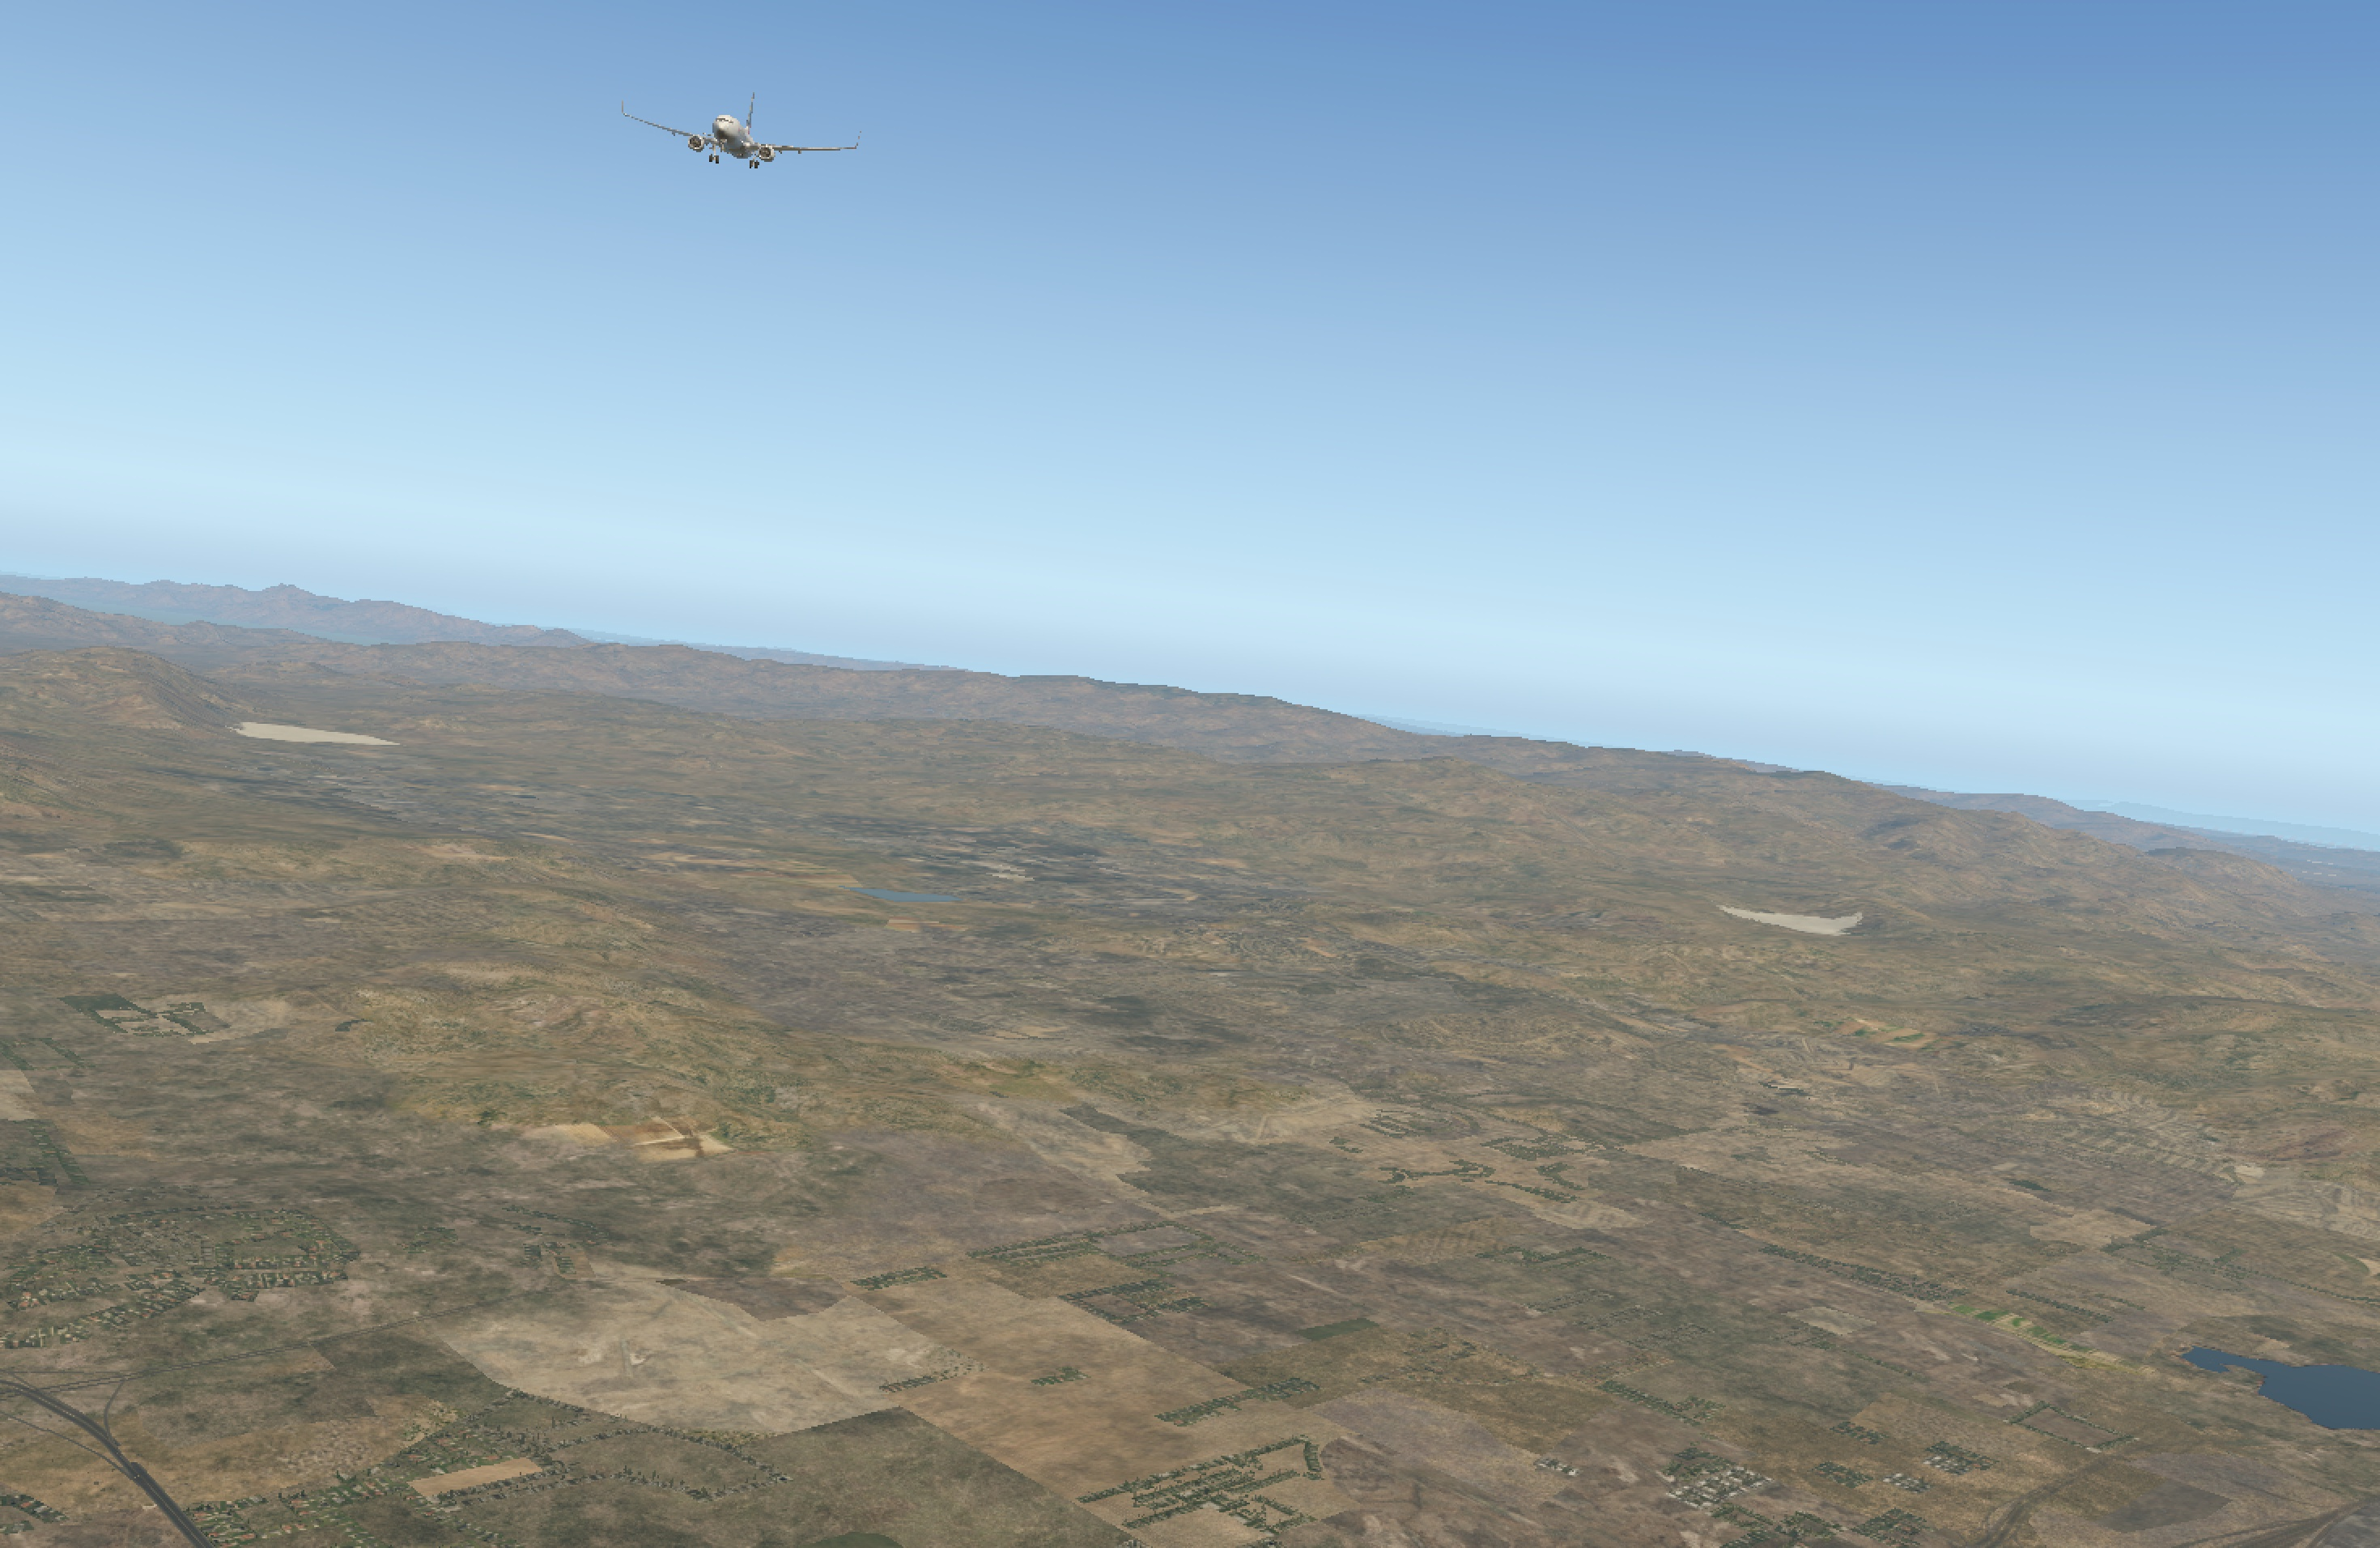aircraft: (607, 95, 862, 191)
